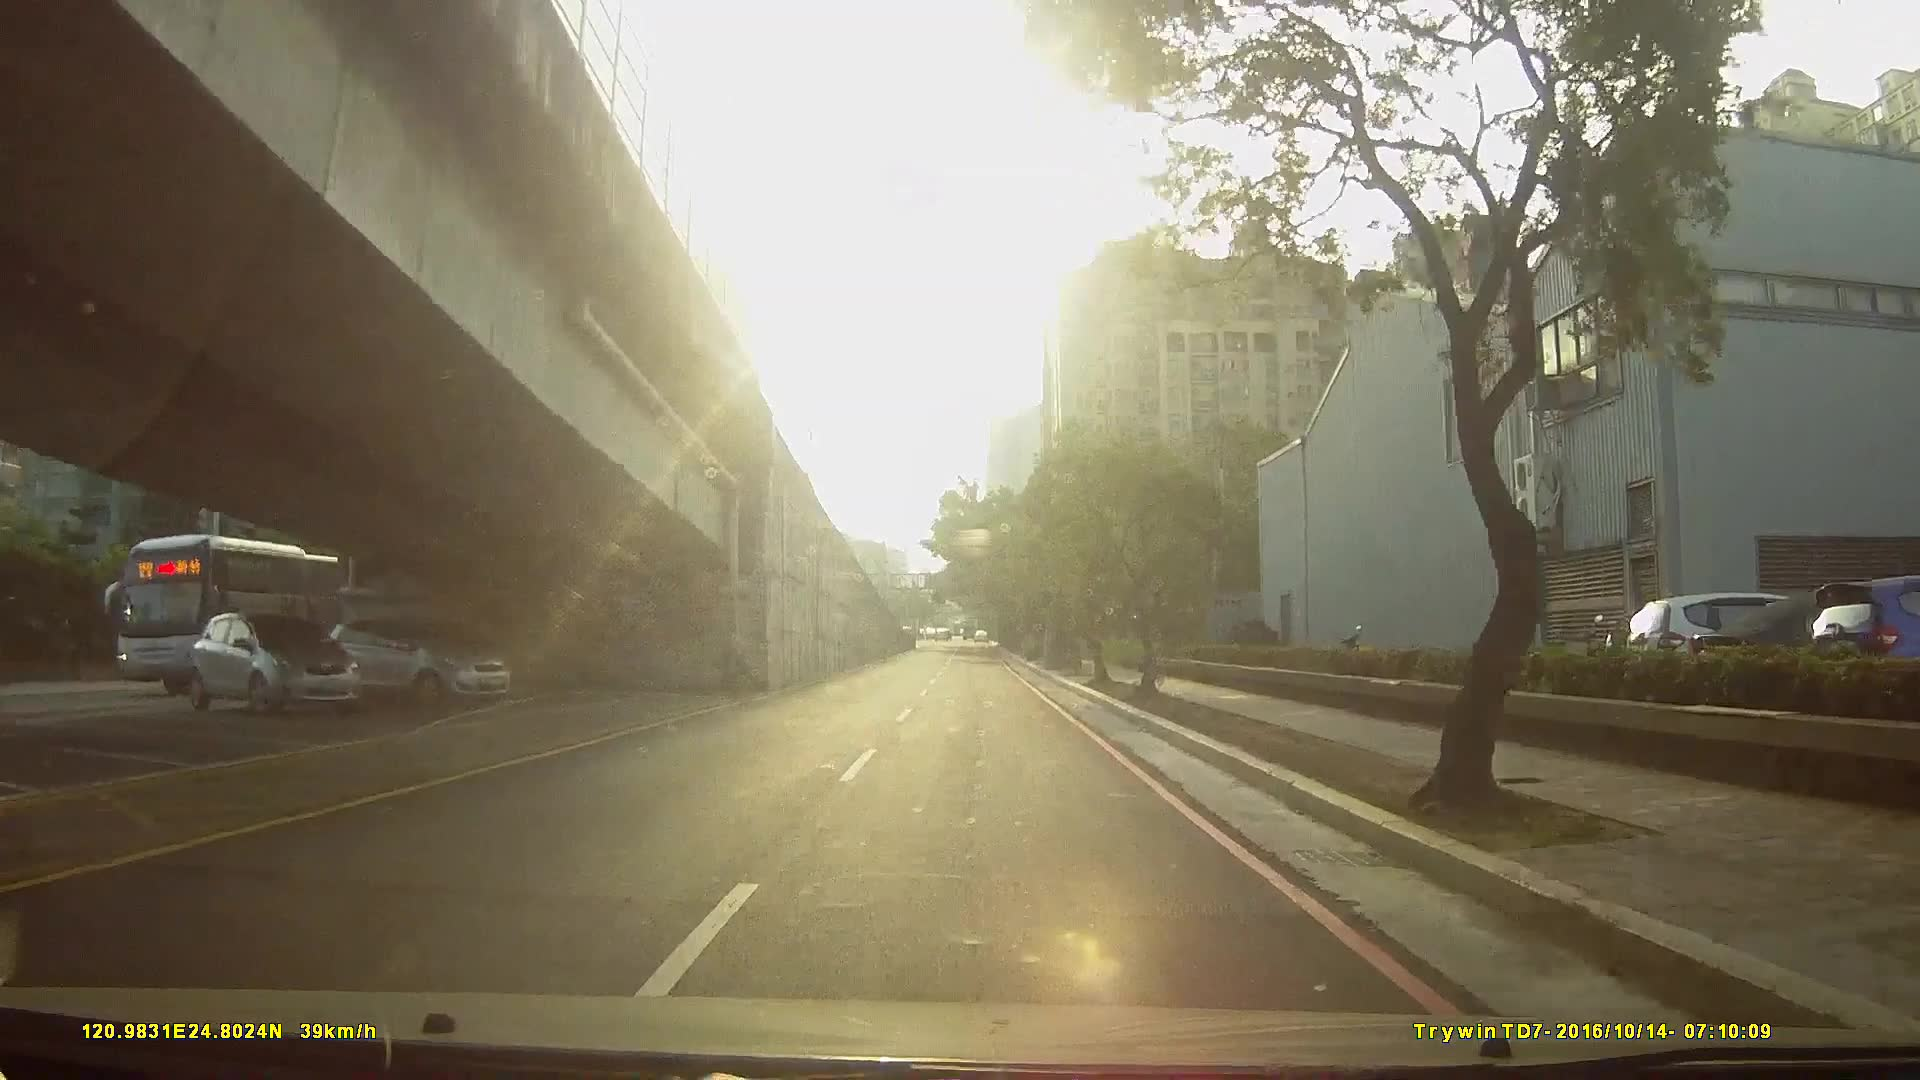vehicle: (87, 525, 376, 704), (313, 615, 529, 708), (175, 607, 351, 717)
